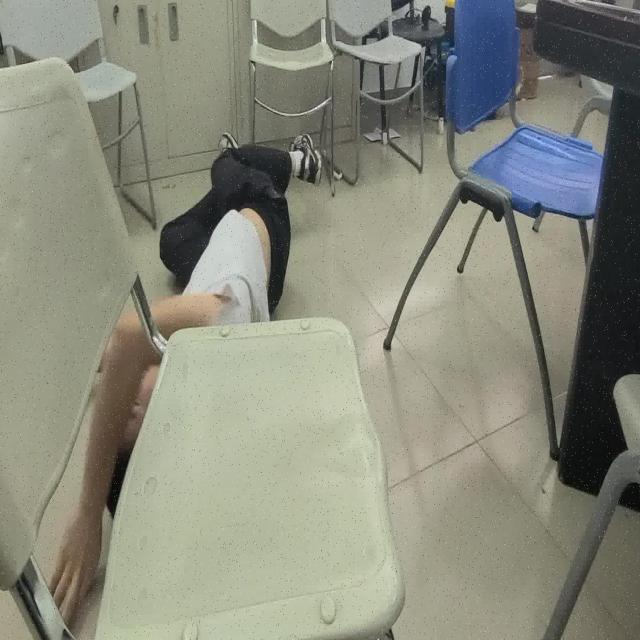fall: (49, 128, 325, 628)
